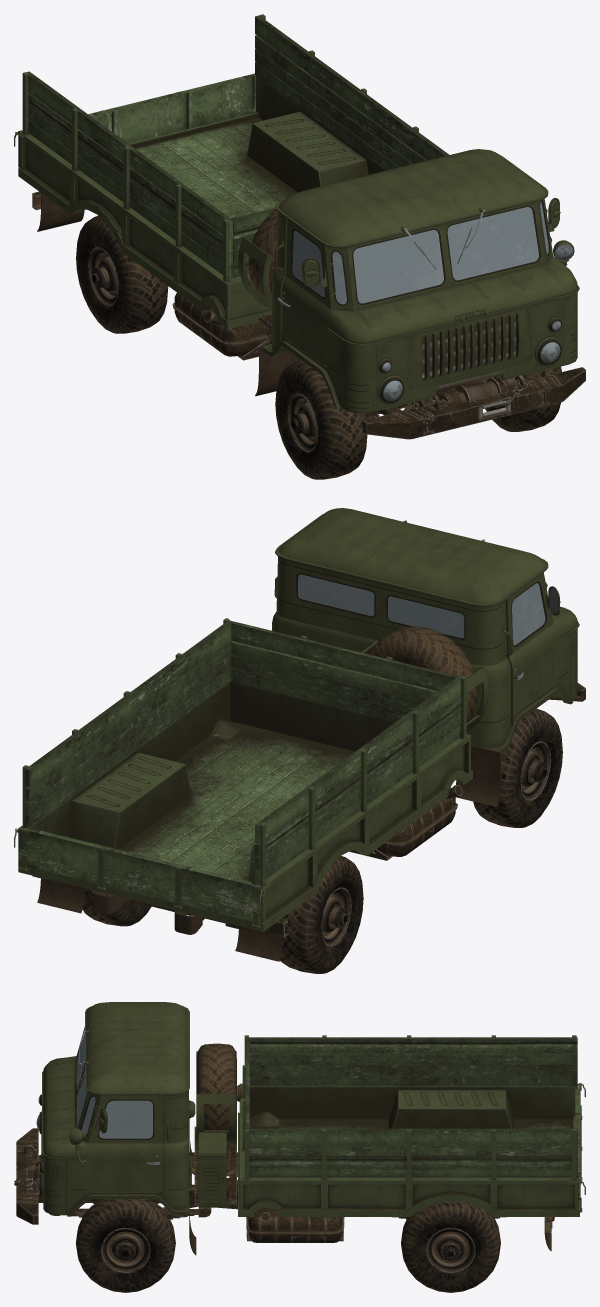
File: Gaz66_Main.fbx
3 views of the same model, one above another, from view 1: azimuth 30°, elevation 25°; view 2: azimuth 150°, elevation 25°; view 3: azimuth 270°, elevation 25° (orthographic). The views are drawn at different scales.
Parts seen in each view (by area): view 1: Body, Frame, Body.001, RFW, RRW, LFW; view 2: Body, Frame, Body.001, RRW, RFW, RLW; view 3: Body, Frame, LFW, RLW, Body.001.
Boxes of the visible parts, x1,y1,x2,y2 form: Body: [14, 14, 579, 413]; Frame: [32, 191, 585, 452]; Body.001: [292, 202, 548, 304]; RFW: [275, 360, 367, 479]; RRW: [76, 216, 168, 333]; LFW: [485, 366, 561, 431]; Body: [14, 508, 579, 931]; Frame: [32, 626, 585, 961]; Body.001: [298, 574, 545, 645]; RRW: [280, 856, 363, 973]; RFW: [473, 708, 562, 827]; RLW: [82, 890, 151, 926]; Body: [36, 1002, 585, 1216]; Frame: [14, 1043, 554, 1272]; LFW: [75, 1199, 175, 1292]; RLW: [401, 1201, 500, 1292]; Body.001: [77, 1034, 152, 1138].
Size of the model in its own units: 250 by 239 by 586.
